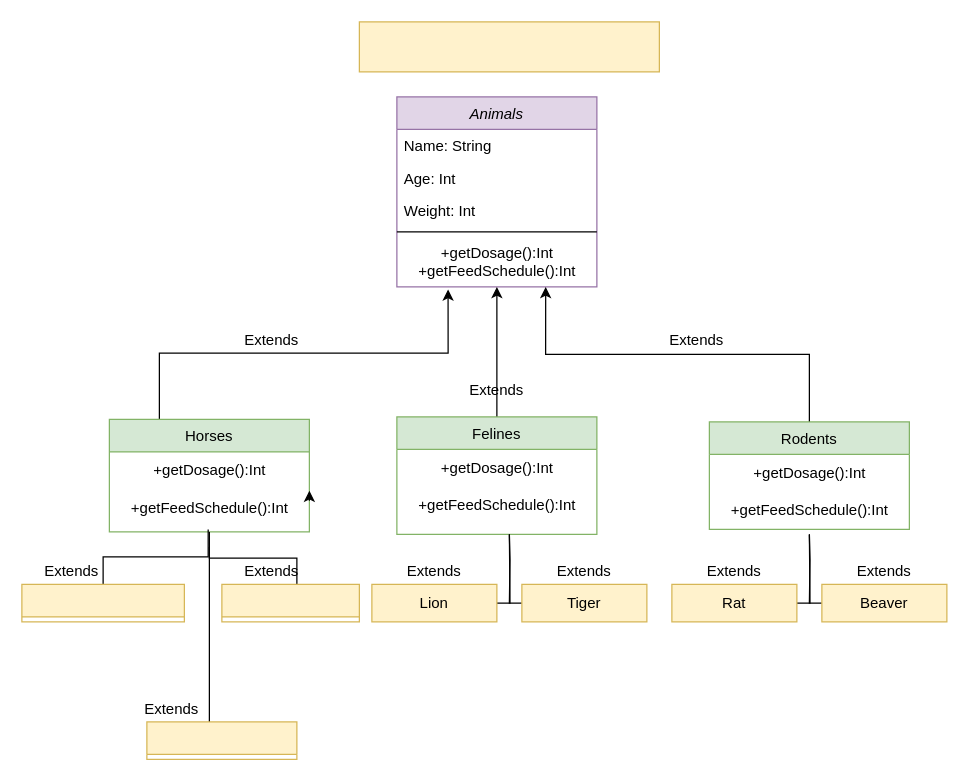
Some shapes in this 969 by 781 pixel diagram are drawn without their labels. The shapes that lost their labels are listed below. From the top down, each one's centre as x and y in pixels, then its label:
At point (508, 46): "ZOO MANAGEMENT".
At point (102, 602): "Horse".
At point (290, 602): "Donkey".
At point (221, 740): "Zebra".
